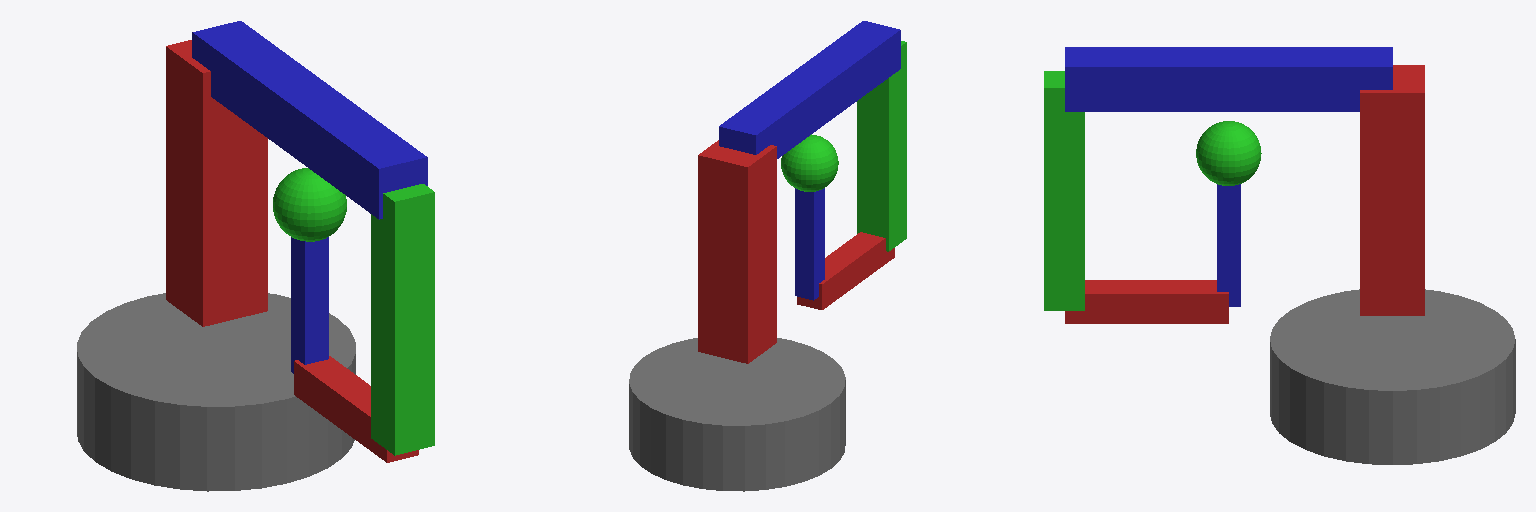
The robot description file, URDF, robot "simple_arm":
<?xml version="1.0"?>
<robot name="simple_arm">
  <material name="gray">
    <color rgba="0.5 0.5 0.5 1"/>
  </material>
  <material name="red">
    <color rgba="0.8 0.2 0.2 1"/>
  </material>
  <material name="blue">
    <color rgba="0.2 0.2 0.8 1"/>
  </material>
  <material name="green">
    <color rgba="0.2 0.8 0.2 1"/>
  </material>

  <link name="base_link">
    <visual>
      <geometry>
        <cylinder length="0.1" radius="0.15"/>
      </geometry>
      <material name="gray"/>
    </visual>
    <collision>
      <geometry>
        <cylinder length="0.1" radius="0.15"/>
      </geometry>
    </collision>
  </link>

  <joint name="joint1" type="revolute">
    <parent link="base_link"/>
    <child link="link1"/>
    <origin xyz="0 0 0.1" rpy="0 0 0"/>
    <axis xyz="0 0 1"/>
    <limit lower="-3.14159" upper="3.14159" effort="100" velocity="3.14"/>
  </joint>

  <link name="link1">
    <visual>
      <origin xyz="0 0 0.15" rpy="0 0 0"/>
      <geometry>
        <box size="0.08 0.08 0.3"/>
      </geometry>
      <material name="red"/>
    </visual>
    <collision>
      <origin xyz="0 0 0.15" rpy="0 0 0"/>
      <geometry>
        <box size="0.08 0.08 0.3"/>
      </geometry>
    </collision>
  </link>

  <joint name="joint2" type="revolute">
    <parent link="link1"/>
    <child link="link2"/>
    <origin xyz="0 0 0.3" rpy="1.5708 0 0"/>
    <axis xyz="0 0 1"/>
    <limit lower="-2.094" upper="2.094" effort="100" velocity="3.14"/>
  </joint>

  <link name="link2">
    <visual>
      <origin xyz="0 0 0.2" rpy="0 0 0"/>
      <geometry>
        <box size="0.06 0.06 0.4"/>
      </geometry>
      <material name="blue"/>
    </visual>
    <collision>
      <origin xyz="0 0 0.2" rpy="0 0 0"/>
      <geometry>
        <box size="0.06 0.06 0.4"/>
      </geometry>
    </collision>
  </link>

  <joint name="joint3" type="revolute">
    <parent link="link2"/>
    <child link="link3"/>
    <origin xyz="0 0 0.4" rpy="1.5708 0 0"/>
    <axis xyz="0 0 1"/>
    <limit lower="-2.094" upper="2.094" effort="100" velocity="3.14"/>
  </joint>

  <link name="link3">
    <visual>
      <origin xyz="0 0 0.15" rpy="0 0 0"/>
      <geometry>
        <box size="0.05 0.05 0.3"/>
      </geometry>
      <material name="green"/>
    </visual>
    <collision>
      <origin xyz="0 0 0.15" rpy="0 0 0"/>
      <geometry>
        <box size="0.05 0.05 0.3"/>
      </geometry>
    </collision>
  </link>

  <joint name="joint4" type="revolute">
    <parent link="link3"/>
    <child link="link4"/>
    <origin xyz="0 0 0.3" rpy="1.5708 0 0"/>
    <axis xyz="0 0 1"/>
    <limit lower="-3.14159" upper="3.14159" effort="50" velocity="3.14"/>
  </joint>

  <link name="link4">
    <visual>
      <origin xyz="0 0 0.1" rpy="0 0 0"/>
      <geometry>
        <box size="0.04 0.04 0.2"/>
      </geometry>
      <material name="red"/>
    </visual>
    <collision>
      <origin xyz="0 0 0.1" rpy="0 0 0"/>
      <geometry>
        <box size="0.04 0.04 0.2"/>
      </geometry>
    </collision>
  </link>

  <joint name="joint5" type="revolute">
    <parent link="link4"/>
    <child link="link5"/>
    <origin xyz="0 0 0.2" rpy="1.5708 0 0"/>
    <axis xyz="0 0 1"/>
    <limit lower="-2.094" upper="2.094" effort="50" velocity="3.14"/>
  </joint>

  <link name="link5">
    <visual>
      <origin xyz="0 0 0.1" rpy="0 0 0"/>
      <geometry>
        <box size="0.03 0.03 0.2"/>
      </geometry>
      <material name="blue"/>
    </visual>
    <collision>
      <origin xyz="0 0 0.1" rpy="0 0 0"/>
      <geometry>
        <box size="0.03 0.03 0.2"/>
      </geometry>
    </collision>
  </link>

  <joint name="joint6" type="revolute">
    <parent link="link5"/>
    <child link="end_effector"/>
    <origin xyz="0 0 0.2" rpy="0 0 0"/>
    <axis xyz="0 0 1"/>
    <limit lower="-3.14159" upper="3.14159" effort="30" velocity="3.14"/>
  </joint>

  <link name="end_effector">
    <visual>
      <geometry>
        <sphere radius="0.04"/>
      </geometry>
      <material name="green"/>
    </visual>
    <collision>
      <geometry>
        <sphere radius="0.04"/>
      </geometry>
    </collision>
  </link>

  <frame name="tool0" link="end_effector" xyz="0 0 0.05" rpy="0 0 0"/>
</robot>

--- What the picture shows (computed from the rendered views, not written in the file) ---
3 views of the same robot in one strip: view 1: azimuth 30°, elevation 25°; view 2: azimuth 150°, elevation 25°; view 3: azimuth 270°, elevation 25° (orthographic).
Robot: simple_arm — 7 links, 6 joints (6 revolute); root link base_link; default pose: every joint at zero.
Links seen in each view (by area): view 1: base_link, link1, link2, link3, link4, link5, end_effector; view 2: base_link, link1, link2, link3, link4, link5, end_effector; view 3: base_link, link2, link1, link3, link4, end_effector, link5.
Boxes of the visible links, x1,y1,x2,y2 form: base_link: (77, 293, 355, 491); link1: (166, 40, 267, 326); link2: (192, 21, 427, 219); link3: (371, 184, 434, 455); link4: (294, 356, 418, 462); link5: (291, 237, 328, 373); end_effector: (273, 168, 346, 241); base_link: (629, 338, 845, 491); link1: (698, 140, 776, 363); link2: (719, 21, 900, 158); link3: (857, 41, 906, 251); link4: (797, 232, 894, 309); link5: (795, 188, 824, 300); end_effector: (781, 134, 838, 191); base_link: (1270, 289, 1515, 464); link2: (1065, 47, 1392, 111); link1: (1360, 65, 1424, 315); link3: (1044, 71, 1084, 310); link4: (1065, 280, 1228, 323); end_effector: (1196, 121, 1261, 185); link5: (1217, 184, 1240, 306).
Size in the robot's own frame: 0.3 by 0.575 by 0.48 metres.
Geometry: primitives only (box / cylinder / sphere), no mesh files.
